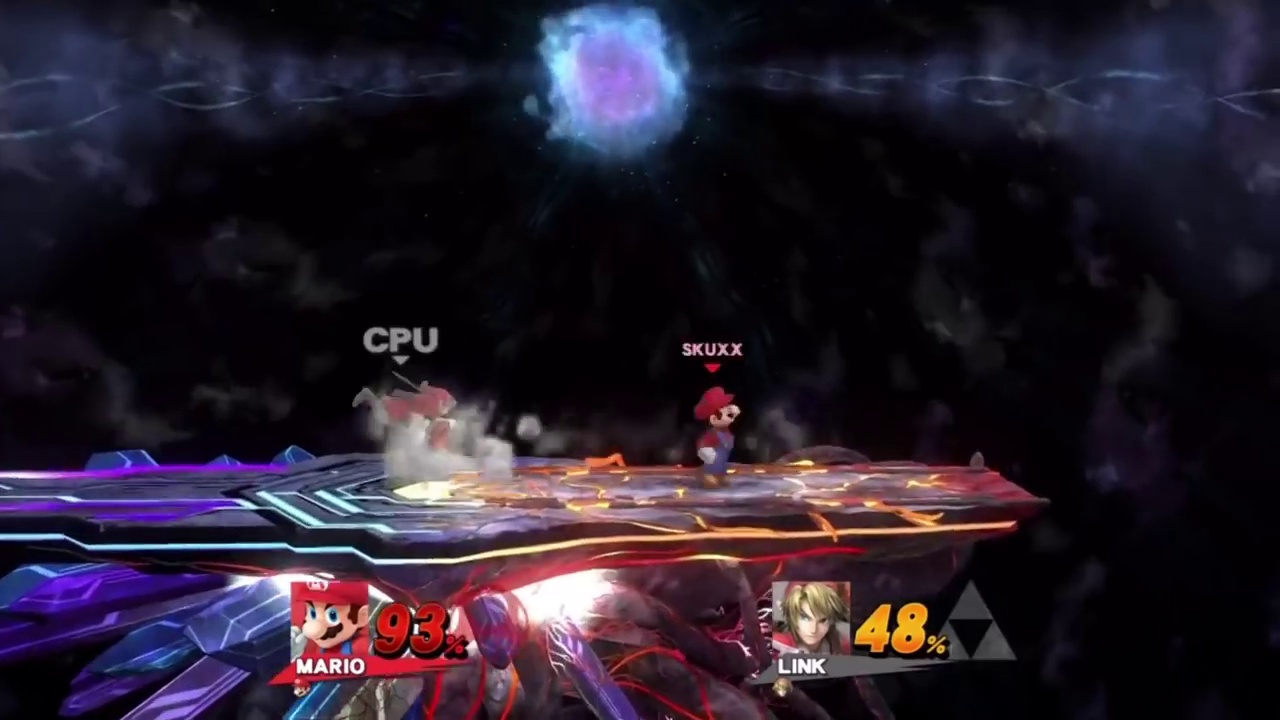Mario: (688, 390, 743, 487)
